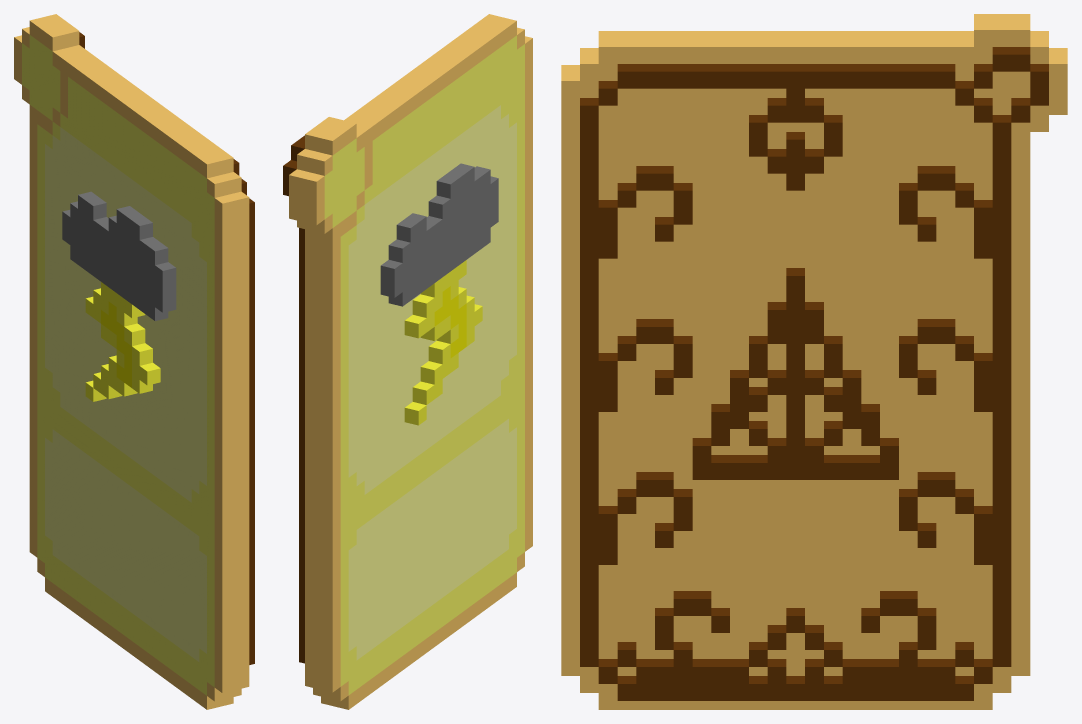
File: Pilipala2.obj
3 renders of one model, left to right at view 1: azimuth 30°, elevation 25°; view 2: azimuth 150°, elevation 25°; view 3: azimuth 270°, elevation 25°, orthographic. The views are drawn at different scales.
Size of the model in its own units: 0.4 by 4 by 2.7.
1 material, 1 textured.
